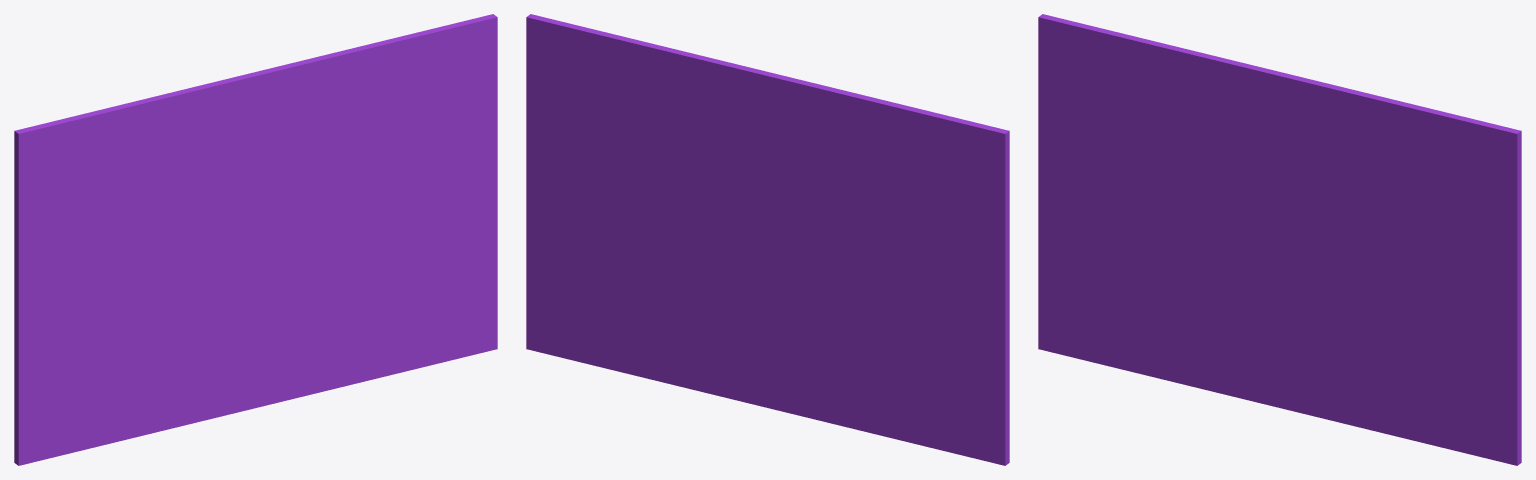
File: Glass_10_chunks.fbx
3 views of the same model, side by side, from view 1: azimuth 30°, elevation 25°; view 2: azimuth 150°, elevation 25°; view 3: azimuth 330°, elevation 25° (orthographic).
Parts seen in each view (by area): view 1: Glass_10_3, Glass_10_0, Glass_10_1, Glass_10_2; view 2: Glass_10_3, Glass_10_1, Glass_10_0, Glass_10_2; view 3: Glass_10_3, Glass_10_0, Glass_10_1, Glass_10_2.
Boxes of the visible parts, x1,y1,x2,y2 form: Glass_10_3: (261, 14, 497, 358); Glass_10_0: (14, 55, 334, 256); Glass_10_1: (14, 245, 249, 465); Glass_10_2: (179, 239, 457, 426); Glass_10_3: (526, 14, 766, 361); Glass_10_1: (762, 238, 1009, 465); Glass_10_0: (694, 54, 1009, 252); Glass_10_2: (577, 249, 830, 423); Glass_10_3: (1281, 90, 1521, 465); Glass_10_0: (1038, 14, 1353, 241); Glass_10_1: (1038, 139, 1269, 387); Glass_10_2: (1198, 240, 1477, 456).
Size of the model in its own units: 1728 by 1144 by 27.2.
